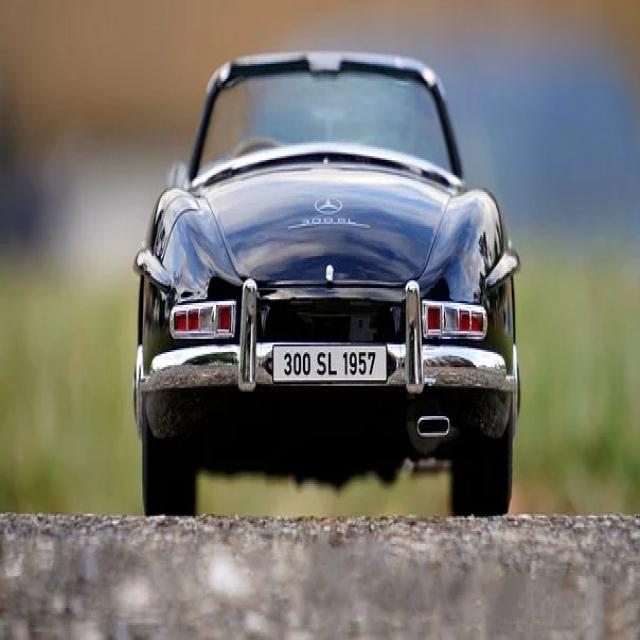Car: (134, 53, 519, 514)
